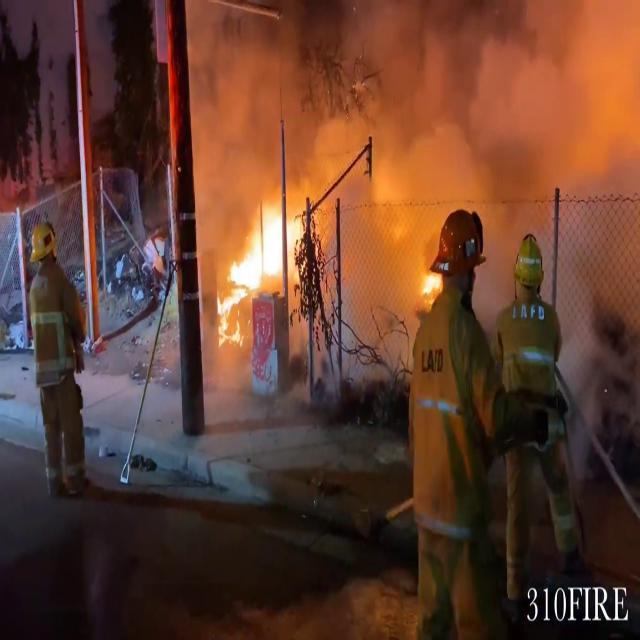Fire: (215, 175, 314, 341)
Smoke: (198, 0, 640, 256)
